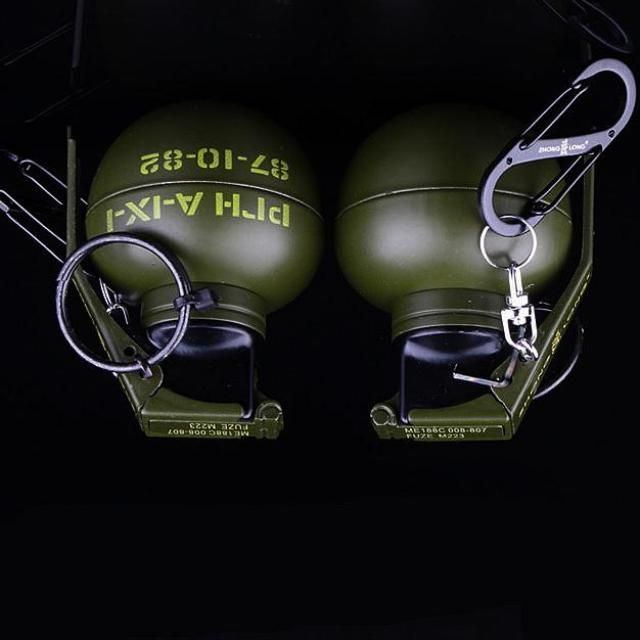grenade: (56, 99, 327, 443), (337, 98, 599, 442)
